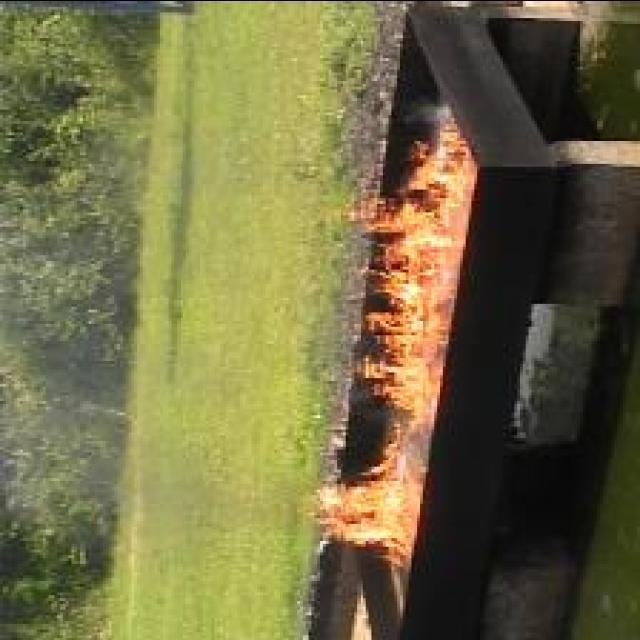Fire: (347, 124, 470, 424), (313, 423, 413, 566)
